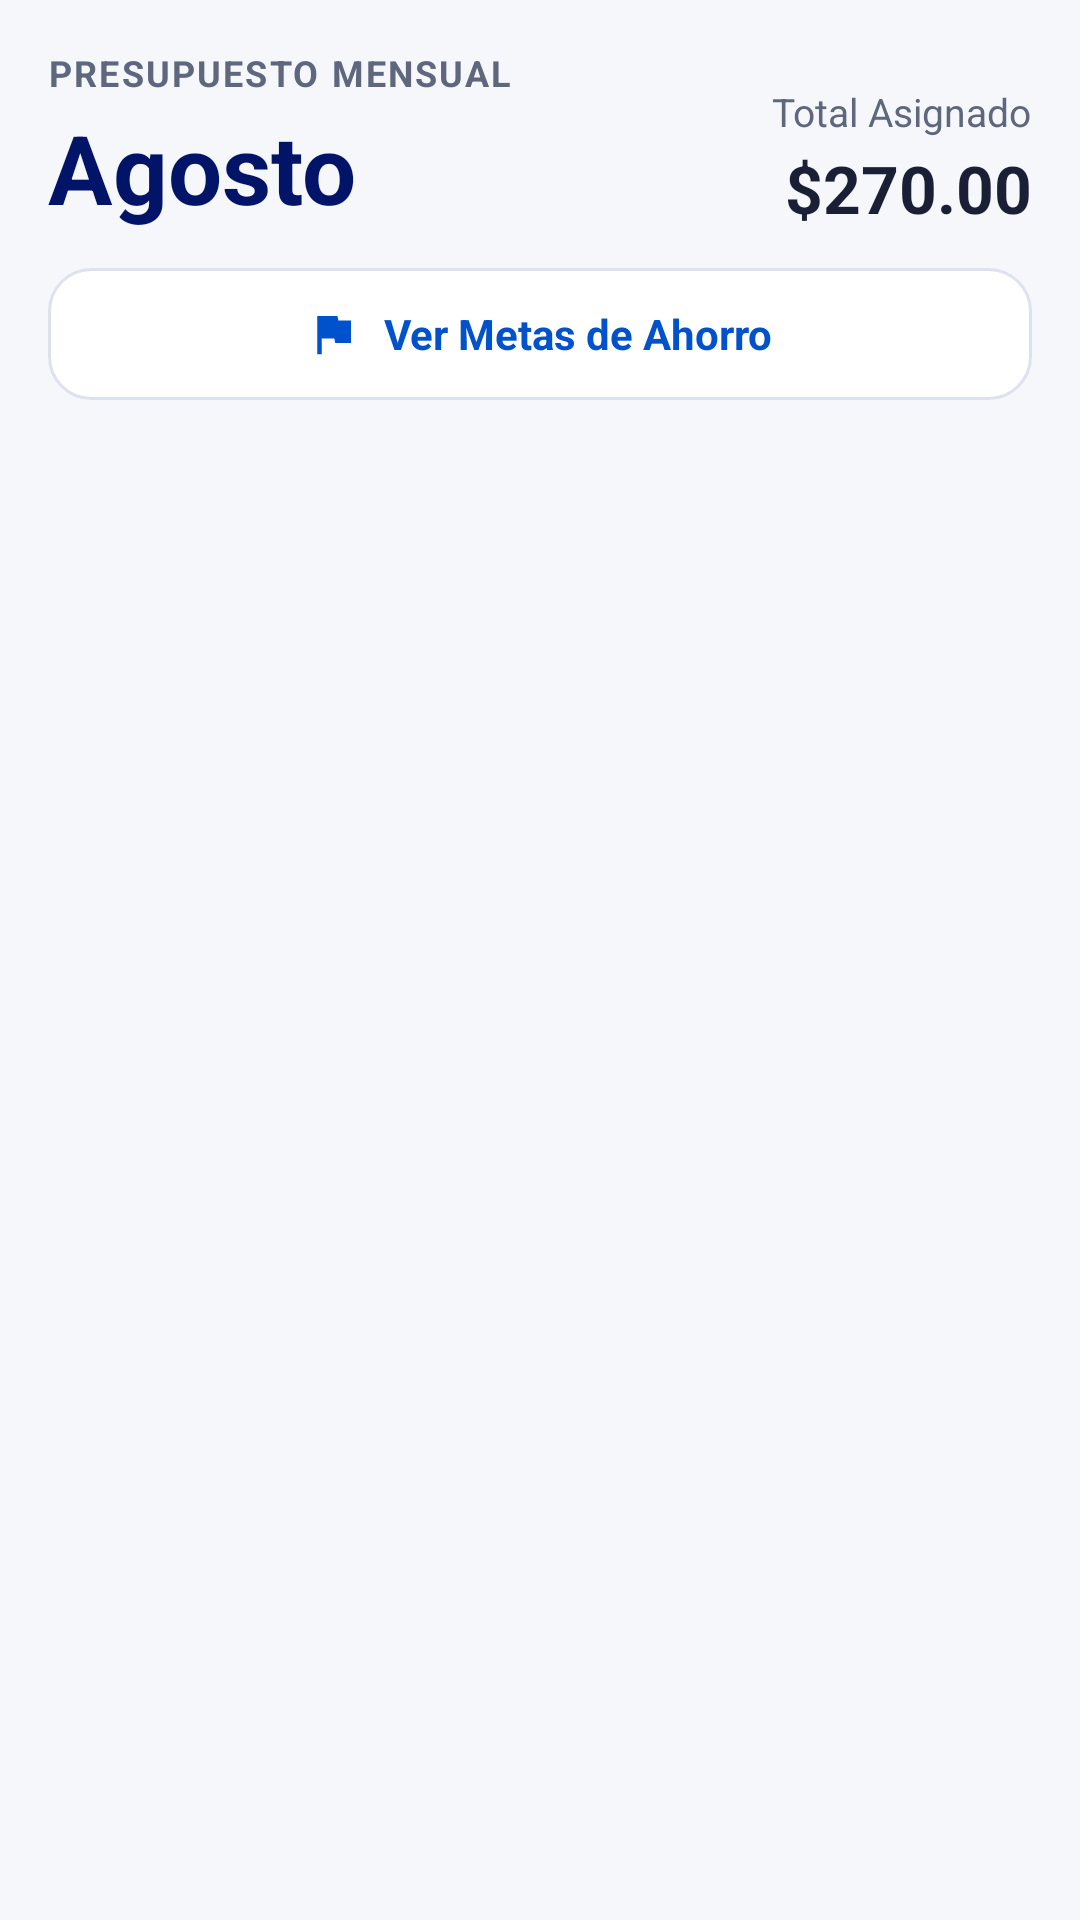

Icon click points for this 1080×1920 phone screenshot, format (x=x, y=y):
flag: (x=334, y=335)
